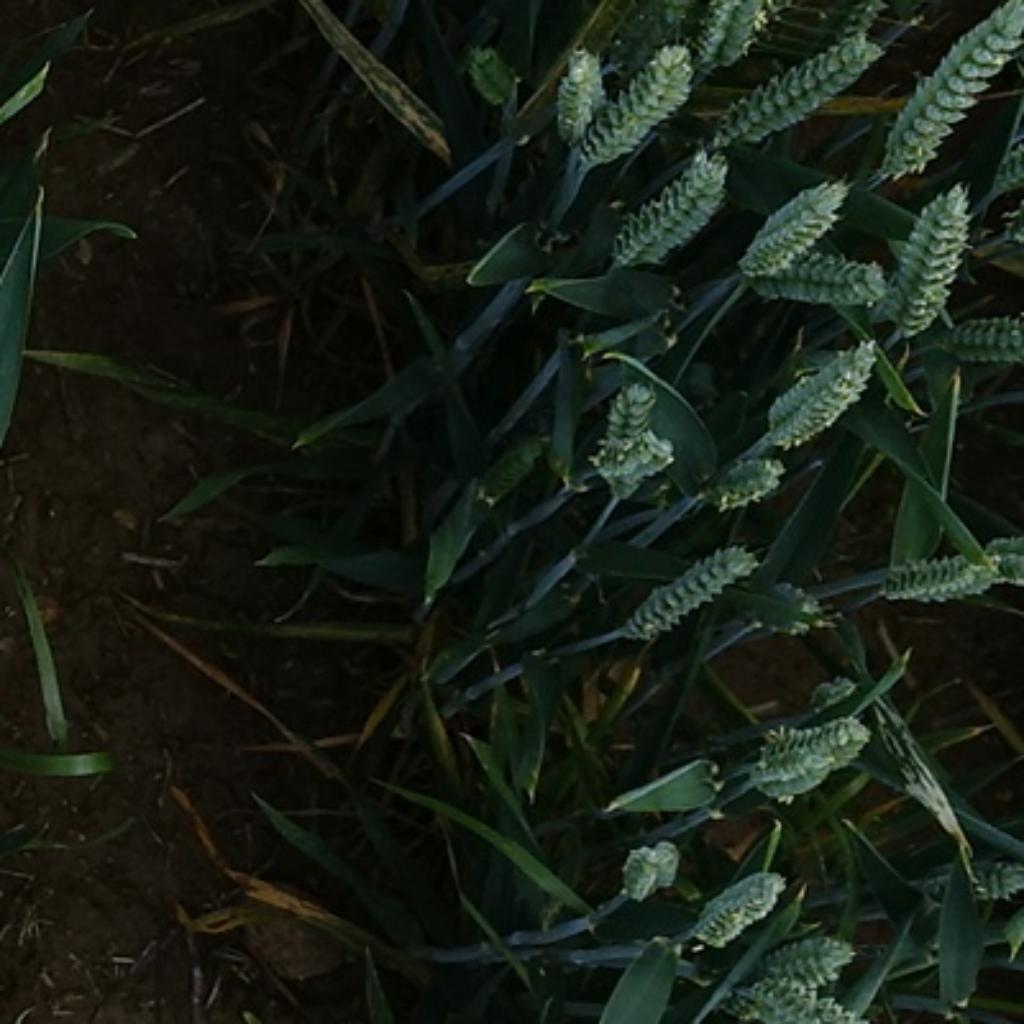0-0: (872, 2, 1024, 184), (719, 20, 885, 148), (750, 325, 896, 458), (609, 524, 768, 645), (611, 135, 739, 266), (885, 176, 975, 332), (742, 709, 880, 798), (576, 379, 674, 499), (737, 171, 855, 268), (739, 970, 916, 1024), (606, 43, 698, 143), (687, 865, 789, 955), (747, 245, 893, 307), (675, 2, 785, 76), (868, 551, 999, 610), (696, 435, 796, 509), (929, 839, 1024, 916), (750, 924, 862, 988), (542, 43, 614, 138), (739, 570, 829, 645), (611, 834, 686, 906), (458, 43, 529, 109), (942, 312, 1024, 366)
